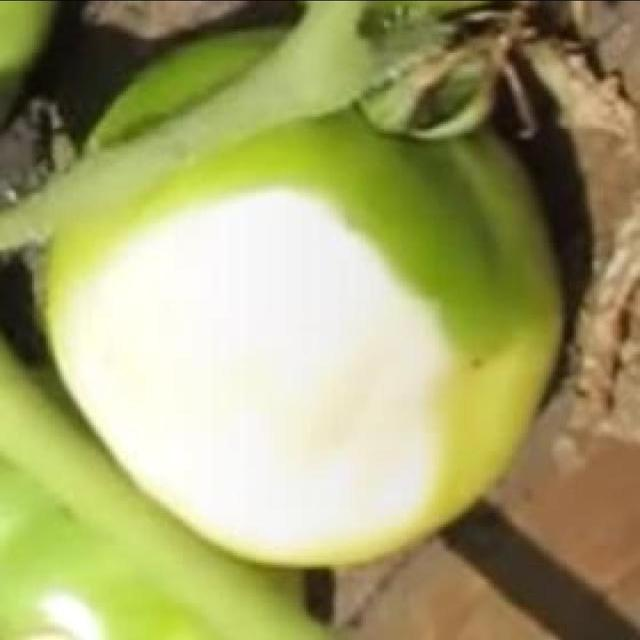Sunscald Fruit: (36, 120, 296, 376)
